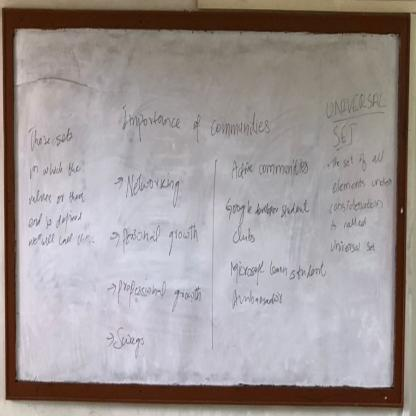Handwritten text: (117, 87, 273, 144), (116, 267, 204, 320), (222, 193, 309, 246), (121, 218, 201, 258), (230, 150, 314, 186), (230, 255, 328, 285), (124, 162, 184, 210), (323, 88, 387, 122), (225, 285, 289, 317), (113, 321, 146, 372), (26, 122, 78, 153), (26, 154, 83, 180), (25, 185, 87, 208), (329, 148, 388, 172), (25, 209, 85, 232), (328, 235, 379, 261), (325, 195, 386, 215), (329, 175, 393, 194), (332, 118, 358, 149), (327, 214, 369, 233)
Whiteboard: (5, 22, 401, 388)
